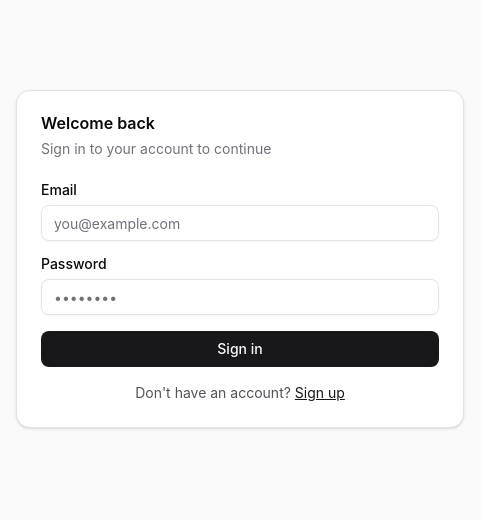
Authentication Flow › should navigate between login and register pages
Click the link "Sign up".
click(320, 393)  # box [295,384,345,401]
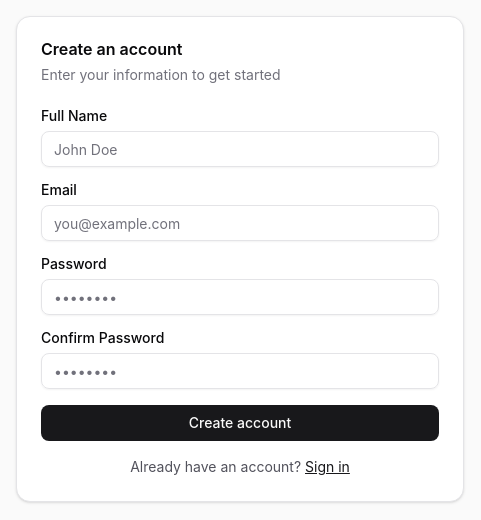
Check: the text "Create an account" is shown, box [41,39,182,59]
# Navigate back to login
Click the link "Sign in".
click(328, 467)  # box [305,458,350,475]
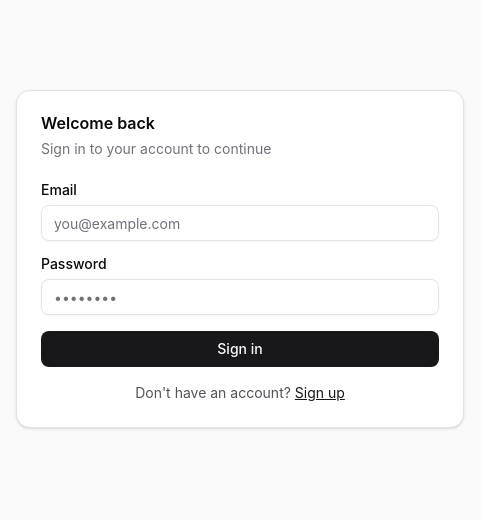
Check: the text "Welcome back" is shown, box [41,113,155,133]
